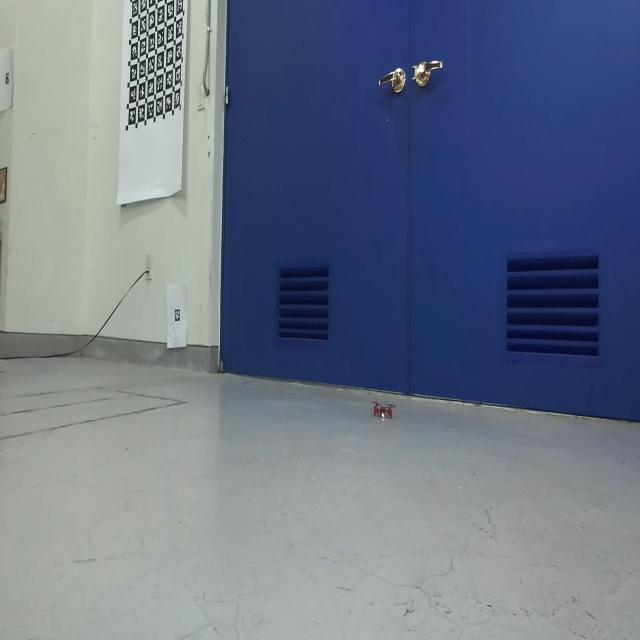crazyflie: (370, 398, 398, 423)
